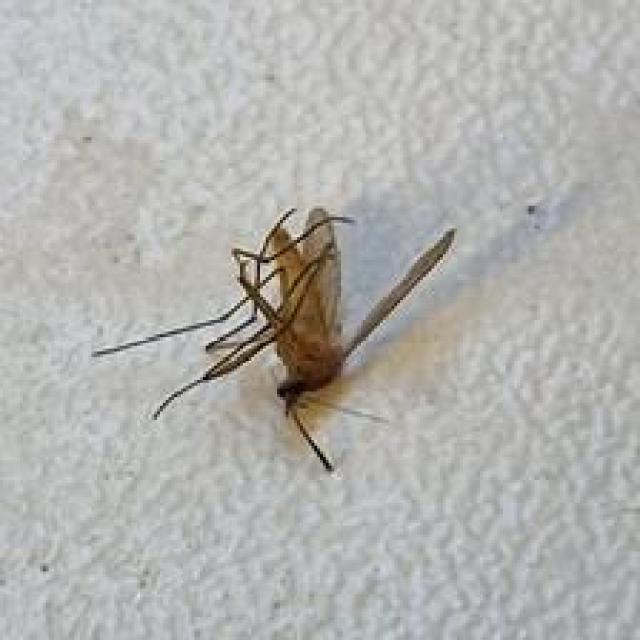Culex: (90, 204, 459, 473)
